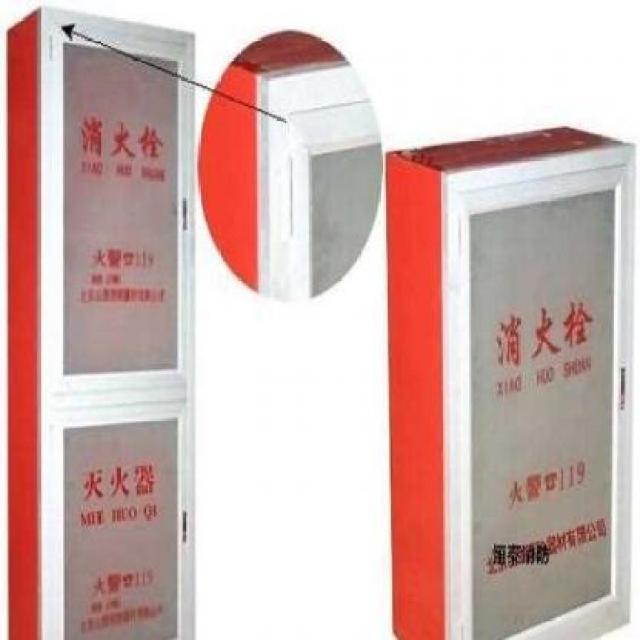firehydrant: (381, 120, 640, 640), (3, 0, 199, 640)
